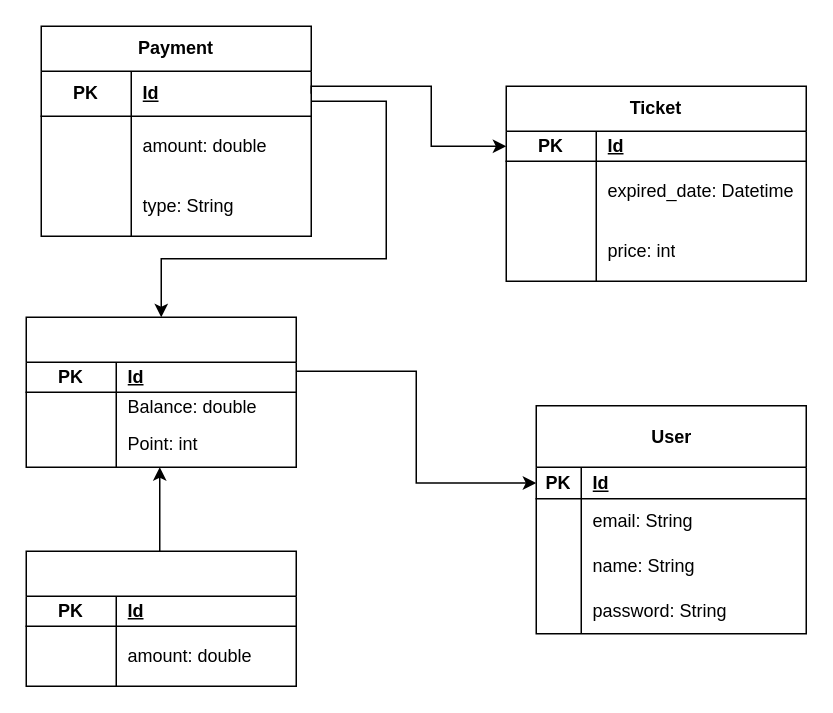
Some shapes in this 833 by 713 pixel diagram are drawn without their labels. The box of each missing label's shape, as (x1, y1, x2, y2) in pixels:
TopUp: (25, 550, 296, 686)
Wallet: (25, 316, 296, 467)
